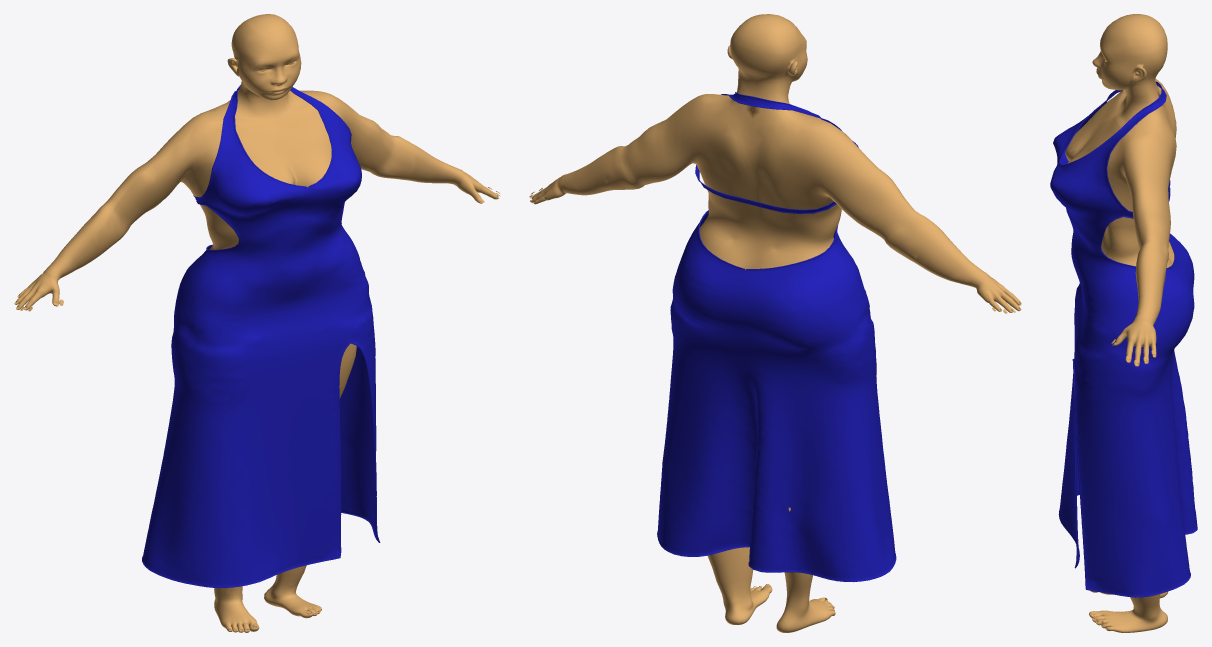
File: dress9.glb
3 views of the same model, side by side, from view 1: azimuth 30°, elevation 25°; view 2: azimuth 150°, elevation 25°; view 3: azimuth 270°, elevation 25° (orthographic).
Parts seen in each view (by area): view 1: EveningDress, Body; view 2: EveningDress, Body; view 3: EveningDress, Body.
Part boxes in pixels (x1=…): EveningDress: x1=142, y1=85, x2=380, y2=587; Body: x1=14, y1=14, x2=499, y2=632; EveningDress: x1=657, y1=92, x2=896, y2=582; Body: x1=530, y1=14, x2=1021, y2=632; EveningDress: x1=1050, y1=81, x2=1197, y2=597; Body: x1=1065, y1=14, x2=1176, y2=632.
Bounding box in the file's own units: 1.59 × 1.88 × 0.4195.
